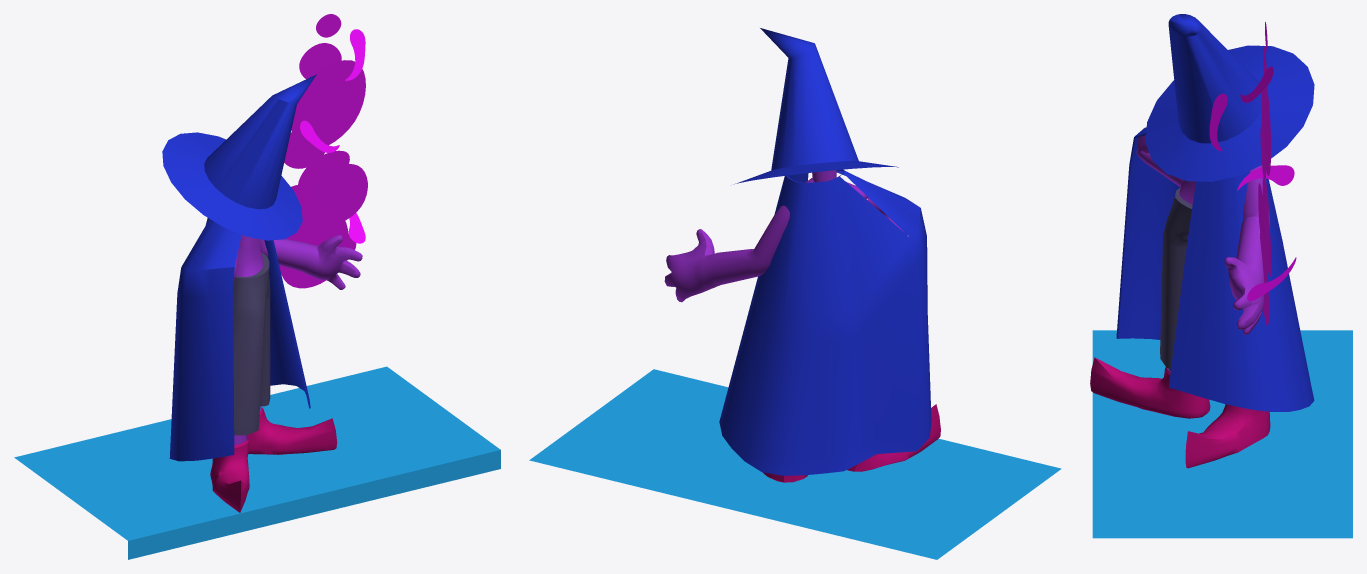
The model's file is tabnmuxQBl.glb.
The picture shows the model from 3 angles, left to right: view 1: azimuth 30°, elevation 25°; view 2: azimuth 150°, elevation 25°; view 3: azimuth 270°, elevation 25°; orthographic projection. The views are drawn at different scales.
Parts seen in each view (by area): view 1: Wizard; view 2: Wizard; view 3: Wizard.
Part boxes in pixels (bbox=[...]): Wizard: bbox=[14, 14, 500, 559]; Wizard: bbox=[529, 28, 1061, 559]; Wizard: bbox=[1090, 14, 1352, 538].
Size of the model in its own units: 2.75 by 2.98 by 1.47.
Materials: 2 (2 with a texture image).
